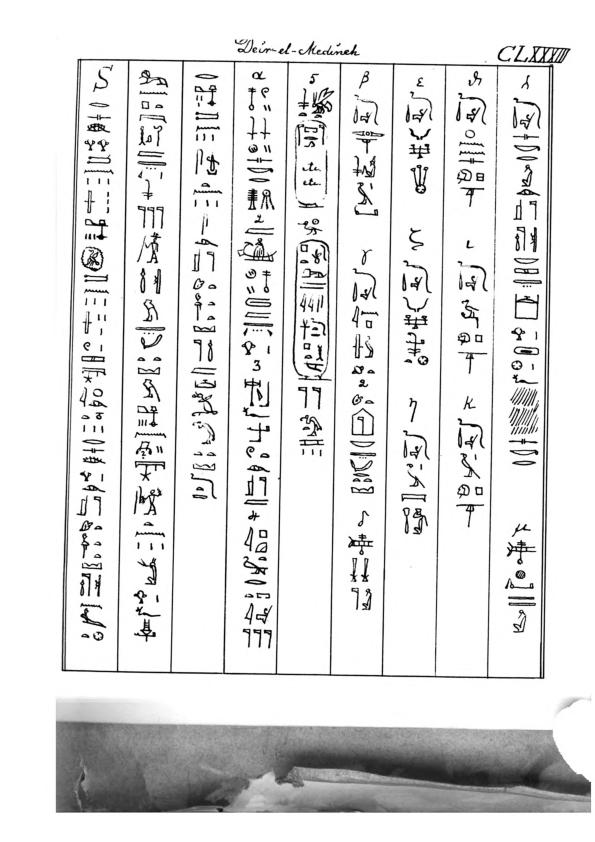circle: (291, 238, 334, 385), (291, 117, 331, 210)
